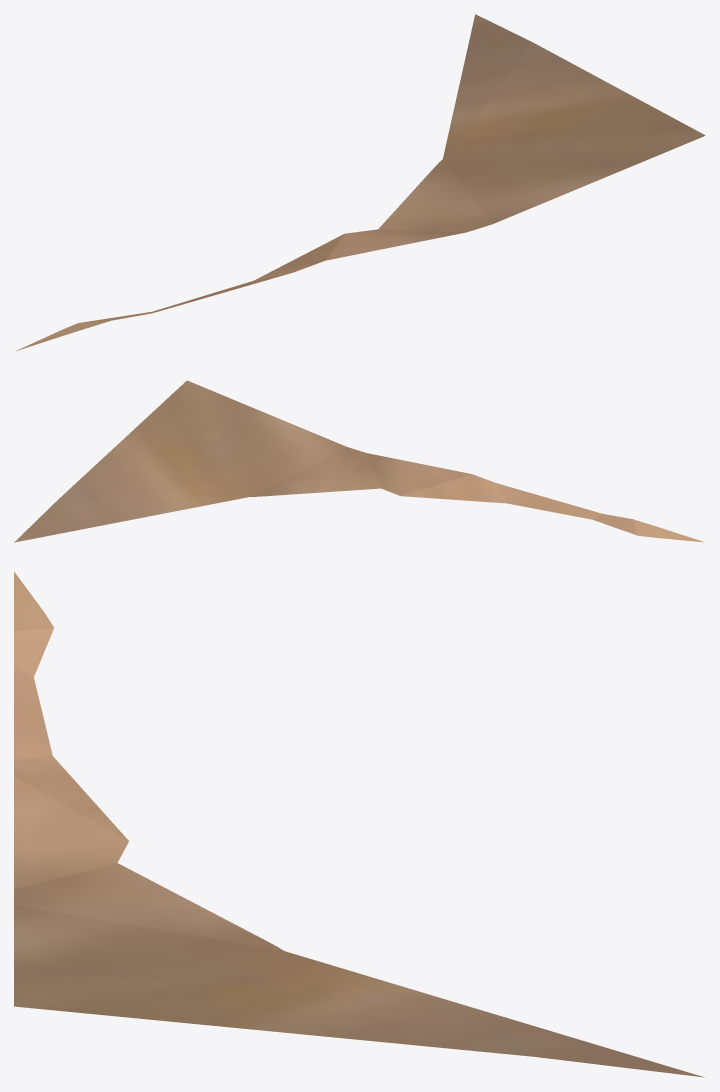
3 renders of one model, top to bottom at view 1: azimuth 30°, elevation 25°; view 2: azimuth 150°, elevation 25°; view 3: azimuth 270°, elevation 25°, orthographic. The views are drawn at different scales.
Size of the model in its own units: 0.311 by 0.0204 by 0.1796.
Materials: 1 (1 with a texture image).
